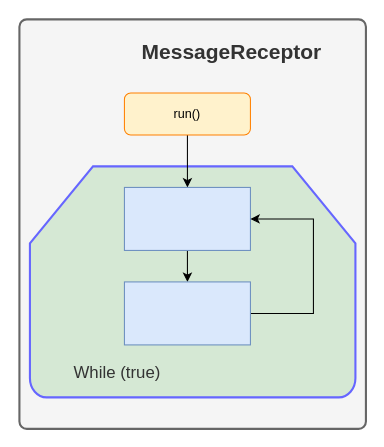
The diagram is 384 pixels wide and 447 high, and some of its shapes have lost their labels. Here are the shapes that lost their labels. From the top down, the centre of each, then its label:
pixel 186 218: Attendre un message
pixel 186 313: Afficher le message
